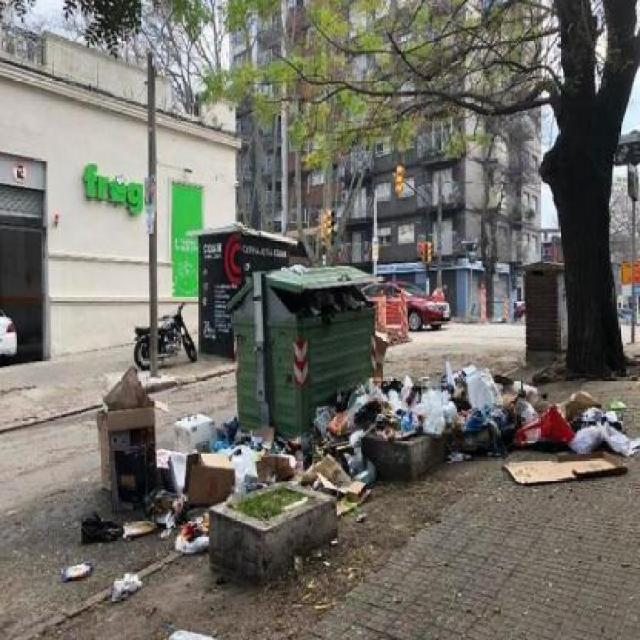garbage: (86, 391, 346, 552), (362, 368, 636, 512), (59, 526, 208, 638), (329, 385, 386, 531), (291, 292, 377, 316)
